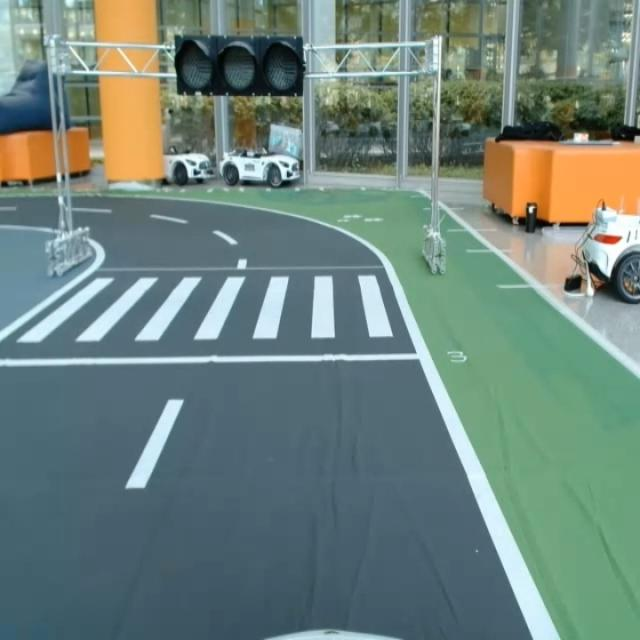traffic-light: (170, 32, 310, 100)
